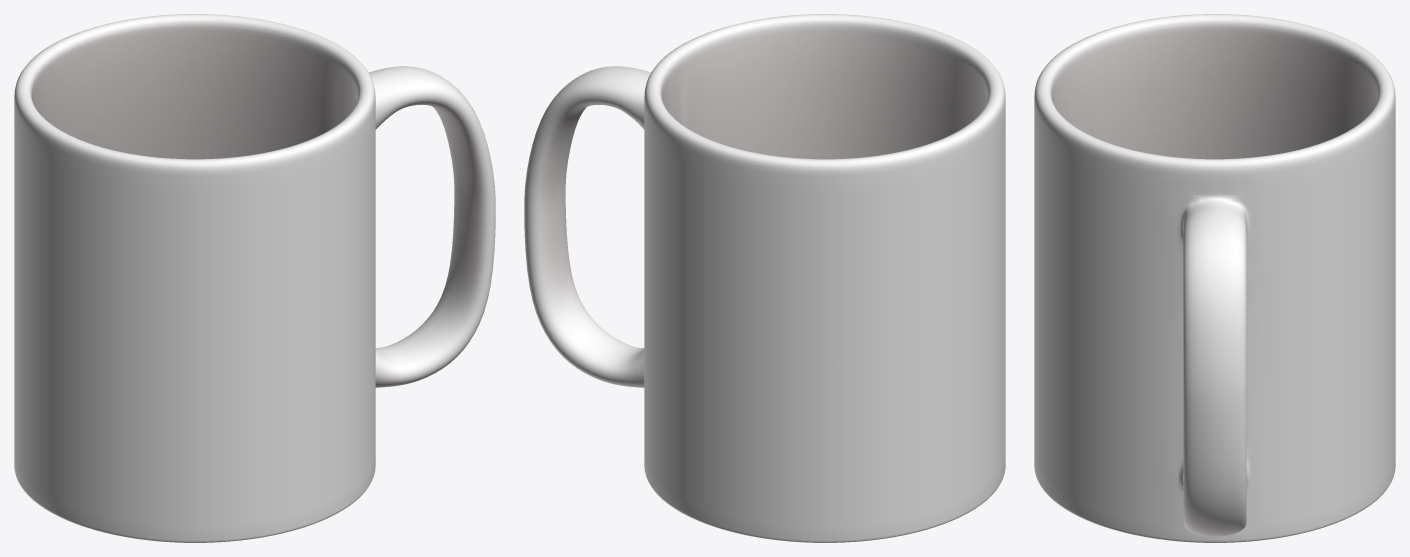
File: caneca.dae
3 renders of one model, left to right at view 1: azimuth 30°, elevation 25°; view 2: azimuth 150°, elevation 25°; view 3: azimuth 270°, elevation 25°, orthographic.
Parts seen in each view (by area): view 1: caneca; view 2: caneca; view 3: caneca.
Part boxes in pixels (<box>): caneca: <box>14,14,495,542</box>; caneca: <box>524,14,1005,542</box>; caneca: <box>1034,14,1395,542</box>.
Bounding box in the file's own units: 1.17 × 0.8182 × 0.9489.
1 material, 1 textured.
